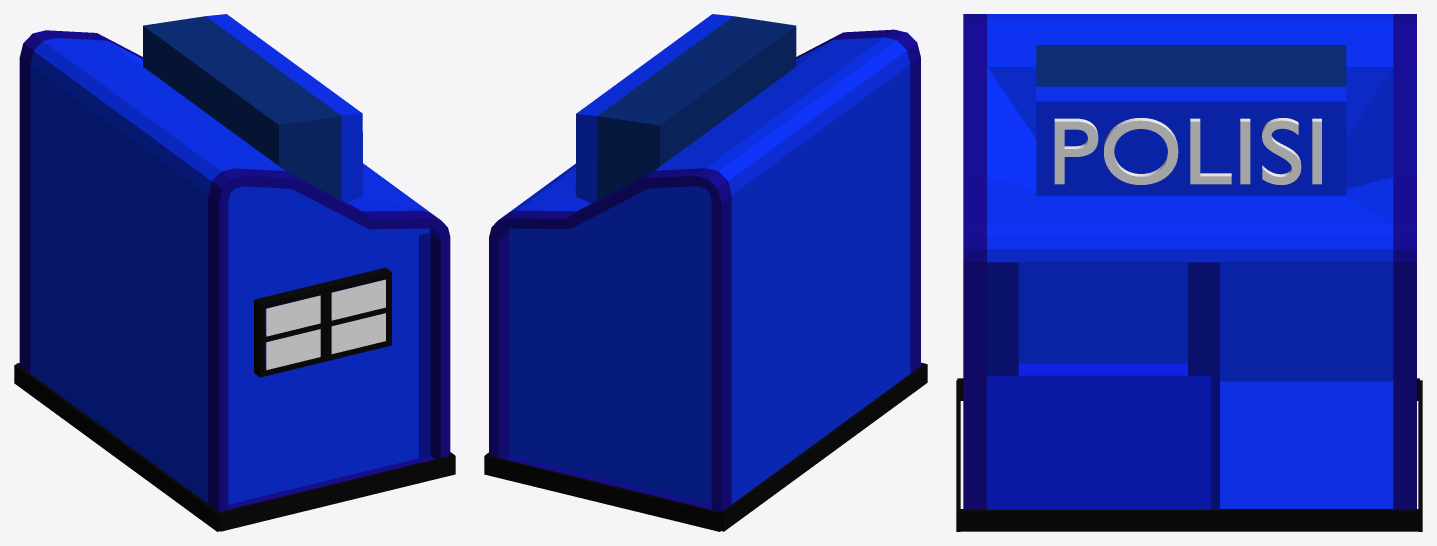
File: Pos polisi.1.fbx
3 renders of one model, left to right at view 1: azimuth 30°, elevation 25°; view 2: azimuth 150°, elevation 25°; view 3: azimuth 270°, elevation 25°, orthographic. The views are drawn at different scales.
Visible parts, largest first — view 1: Cube.059; view 2: Cube.059; view 3: Cube.059.
Boxes of the visible parts, x1,y1,x2,y2 form: Cube.059: (14,14,455,531); Cube.059: (484,14,927,531); Cube.059: (956,14,1422,531).
Bounding box in the file's own units: 308 × 443 × 459.
